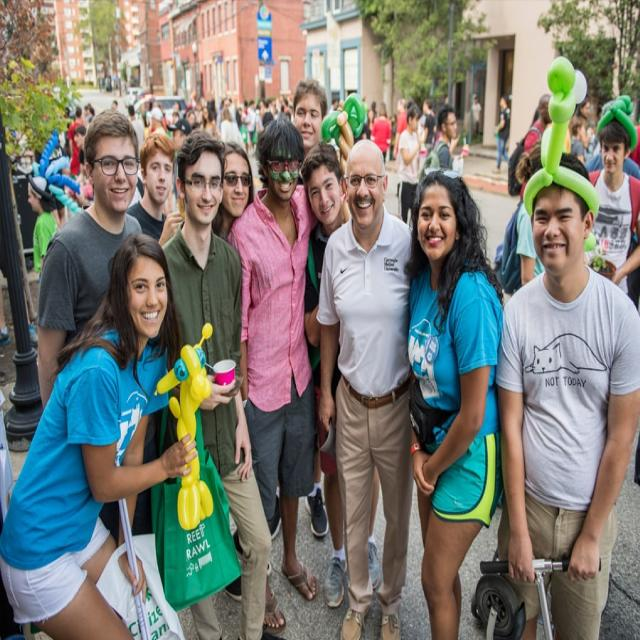body: (0, 230, 200, 639), (484, 143, 639, 639), (227, 110, 356, 638), (153, 127, 277, 639), (314, 135, 426, 639), (402, 167, 506, 639), (300, 145, 383, 611), (35, 109, 146, 413), (582, 95, 640, 314), (583, 94, 640, 309), (494, 145, 544, 309), (124, 130, 186, 250), (506, 91, 554, 202), (289, 74, 330, 188), (210, 139, 256, 240), (396, 99, 425, 224), (26, 175, 60, 274), (420, 106, 458, 182), (46, 137, 68, 230), (491, 93, 514, 175), (72, 125, 95, 204), (150, 90, 200, 124), (369, 100, 393, 167), (66, 106, 88, 179), (97, 60, 139, 95), (576, 96, 596, 162), (220, 106, 246, 152), (567, 116, 589, 166), (392, 97, 409, 160), (421, 97, 437, 157), (255, 97, 293, 121), (127, 105, 145, 148), (200, 104, 218, 138), (470, 95, 483, 139), (247, 100, 257, 144), (237, 103, 247, 146), (138, 98, 150, 125), (201, 88, 219, 105), (365, 108, 376, 133), (327, 97, 344, 113), (221, 95, 237, 108), (84, 104, 94, 122), (370, 99, 378, 113), (110, 98, 116, 109)
